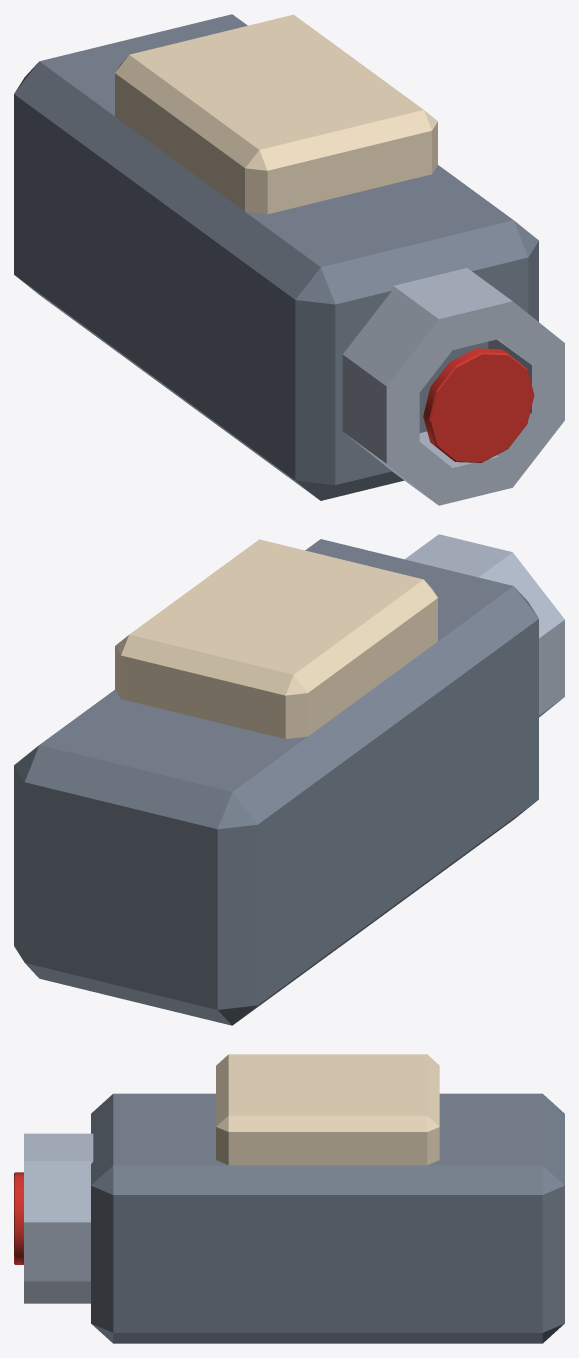
The model's file is Module_Laser_v001.fbx.
The picture shows the model from 3 angles, top to bottom: view 1: azimuth 30°, elevation 25°; view 2: azimuth 150°, elevation 25°; view 3: azimuth 270°, elevation 25°; orthographic projection. The views are drawn at different scales.
Visible parts, largest first — view 1: Module_Laser__RECEIVER_MESH; view 2: Module_Laser__RECEIVER_MESH; view 3: Module_Laser__RECEIVER_MESH.
Part boxes in pixels (x1,y1,x2,y2): Module_Laser__RECEIVER_MESH: (14,14,564,505); Module_Laser__RECEIVER_MESH: (14,534,564,1025); Module_Laser__RECEIVER_MESH: (14,1054,564,1343).
Size of the model in its own units: 0.24 by 0.275 by 0.616.
